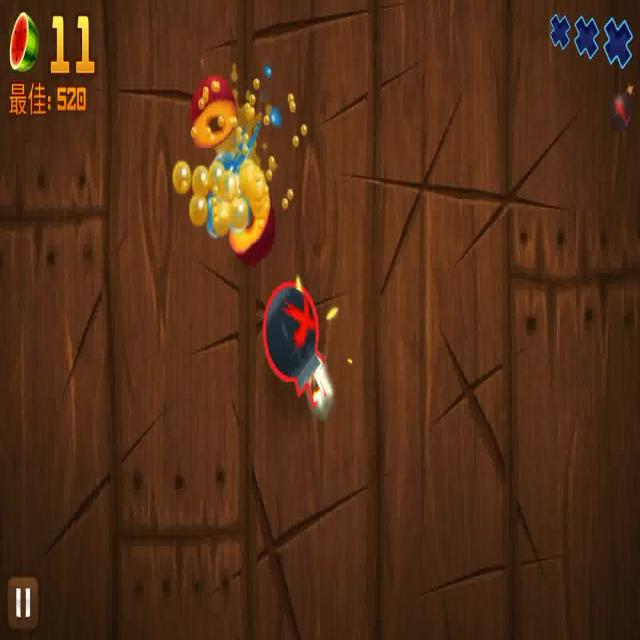bomb: (259, 279, 334, 412)
fruit: (229, 162, 274, 268), (188, 72, 238, 143)
